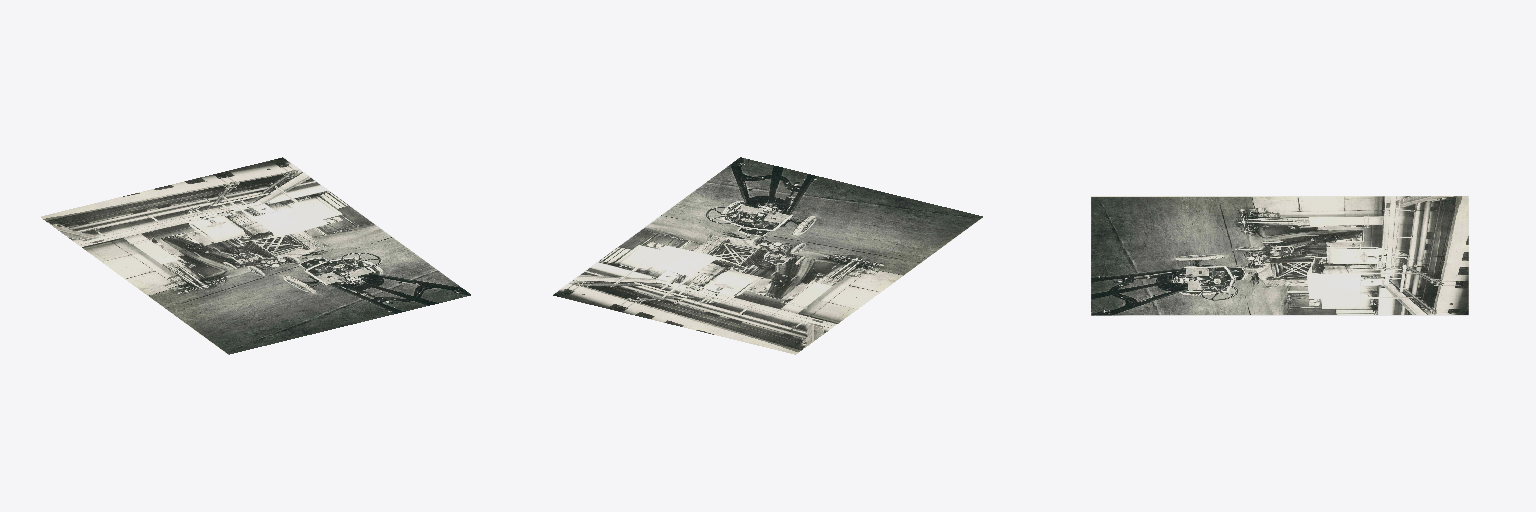
3 renders of one model, left to right at view 1: azimuth 30°, elevation 25°; view 2: azimuth 150°, elevation 25°; view 3: azimuth 270°, elevation 25°, orthographic.
Parts seen in each view (by area): view 1: Plane001; view 2: Plane001; view 3: Plane001.
Part boxes in pixels (x1,y1,x2,y2): Plane001: (41, 157, 470, 354); Plane001: (553, 157, 982, 354); Plane001: (1091, 196, 1468, 315).
Bounding box in the file's own units: 24.14 × 0 × 32.3.
Materials: 1 (1 with a texture image).